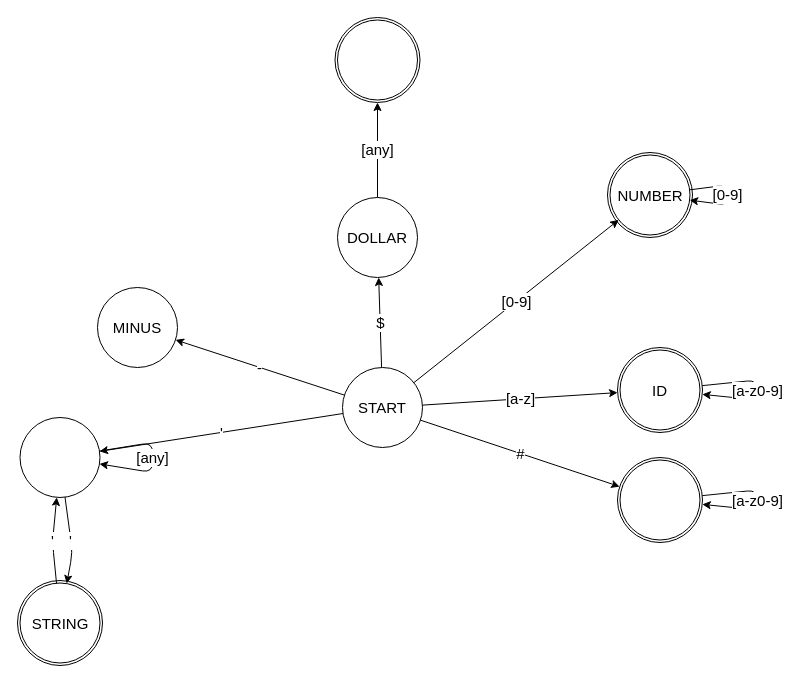
Image size: 800x683. Some labels were removed from this diagram. Here are the shapes that lost their labels. From the top down, the box of each, then its label:
(334, 16, 420, 102): CHAR
(19, 416, 100, 498): STROPEN
(616, 456, 702, 542): SYMBOL
